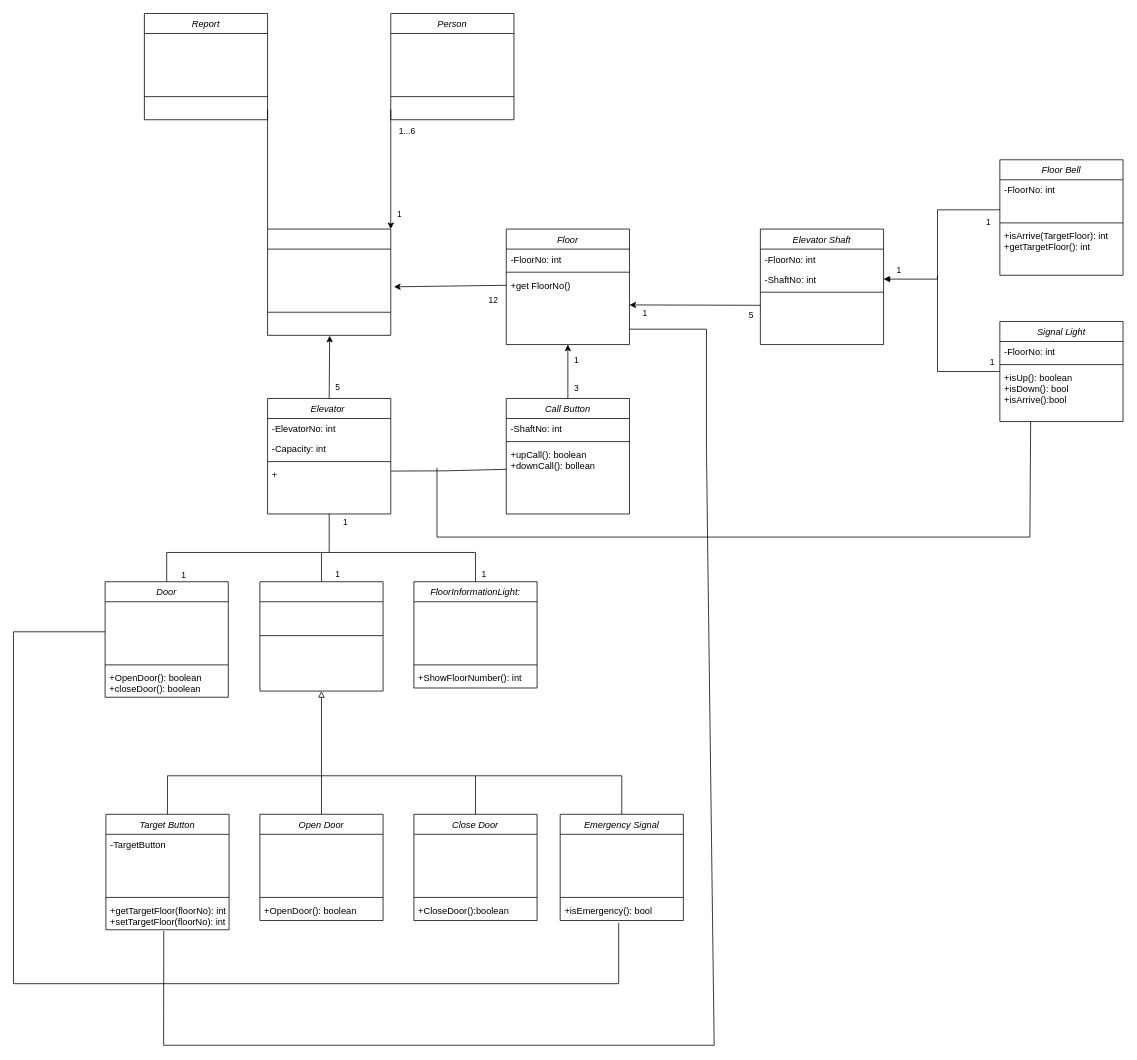
This 1137x1060 diagram has some shape labels left out. The shapes that lost their labels are listed below. From the top down, each one's centre as x and y in pixels, then its label:
point 329,281: Elevator Simulator
point 321,636: Control Panel
